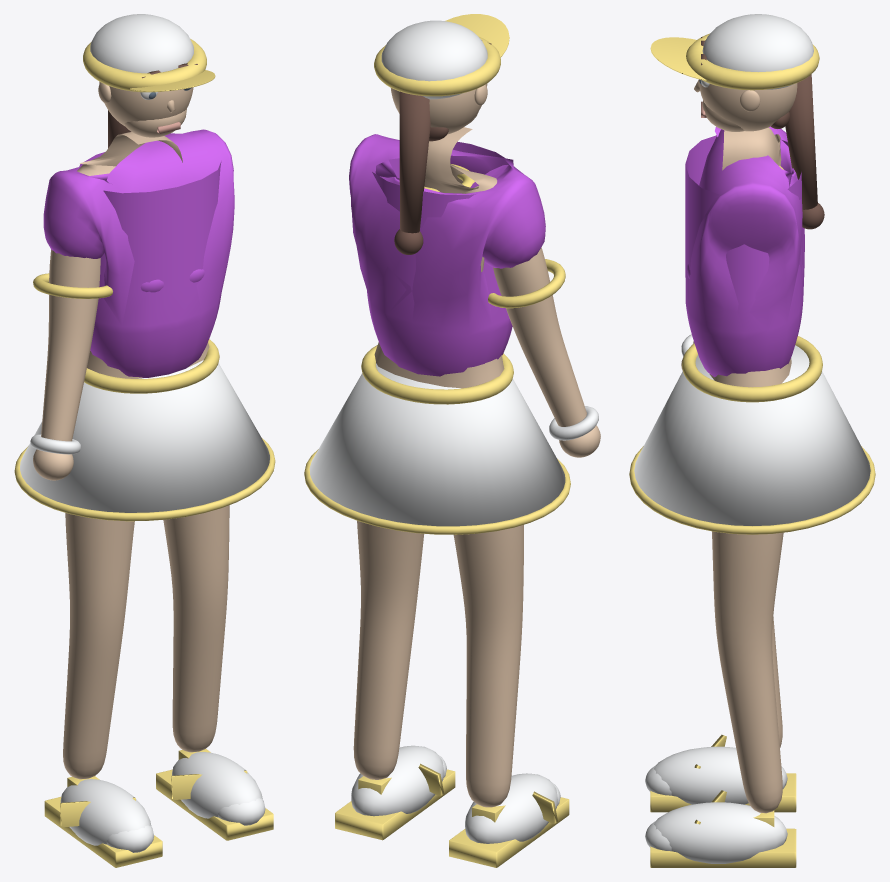
File: aura-tennis-cpu.glb
The picture shows the model from 3 angles, left to right: view 1: azimuth 30°, elevation 25°; view 2: azimuth 150°, elevation 25°; view 3: azimuth 270°, elevation 25°; orthographic projection. The views are drawn at different scales.
Visible parts, largest first — view 1: Cpu_body, Cpu_shirtmesh, Cone, Sphere.012, Sphere.017, Sphere.015, Torus.003, Torus.004, Torus.002, Sphere.002, Cube.006, Cube.003 (+9 smaller); view 2: Cpu_body, Cpu_shirtmesh, Cone, Sphere.012, Cone.002, Sphere.017, Sphere.015, Torus.002, Torus.003, Torus.004, Cube.003, Cube.006 (+6 smaller); view 3: Cone, Cpu_shirtmesh, Cpu_body, Sphere.015, Sphere.012, Sphere.017, Torus.002, Cone.002, Sphere.002, Torus.004, Torus.003, Cube.003 (+2 smaller).
Part boxes in pixels (x1=…): Cpu_body: x1=41, y1=132, x2=229, y2=779; Cpu_shirtmesh: x1=43, y1=129, x2=234, y2=377; Cone: x1=20, y1=360, x2=269, y2=512; Sphere.012: x1=90, y1=14, x2=193, y2=73; Sphere.017: x1=60, y1=779, x2=151, y2=845; Sphere.015: x1=172, y1=752, x2=262, y2=818; Torus.003: x1=14, y1=437, x2=275, y2=521; Torus.004: x1=83, y1=38, x2=206, y2=92; Torus.002: x1=84, y1=339, x2=219, y2=393; Sphere.002: x1=99, y1=81, x2=193, y2=125; Cube.006: x1=44, y1=797, x2=162, y2=867; Cube.003: x1=156, y1=769, x2=273, y2=840; Cpu_body: x1=353, y1=127, x2=586, y2=807; Cpu_shirtmesh: x1=349, y1=134, x2=545, y2=376; Cone: x1=309, y1=363, x2=565, y2=526; Sphere.012: x1=381, y1=20, x2=487, y2=99; Cone.002: x1=399, y1=91, x2=430, y2=233; Sphere.017: x1=465, y1=773, x2=557, y2=843; Sphere.015: x1=351, y1=745, x2=444, y2=816; Torus.002: x1=361, y1=345, x2=513, y2=404; Torus.003: x1=304, y1=449, x2=570, y2=534; Torus.004: x1=374, y1=37, x2=500, y2=96; Cube.003: x1=335, y1=769, x2=455, y2=840; Cube.006: x1=449, y1=797, x2=569, y2=867; Cone: x1=634, y1=345, x2=870, y2=525; Cpu_shirtmesh: x1=685, y1=126, x2=804, y2=377; Cpu_body: x1=693, y1=127, x2=791, y2=813; Sphere.015: x1=654, y1=802, x2=787, y2=863; Sphere.012: x1=702, y1=14, x2=813, y2=89; Sphere.017: x1=654, y1=746, x2=787, y2=804; Torus.002: x1=682, y1=336, x2=822, y2=402; Cone.002: x1=785, y1=74, x2=817, y2=209; Sphere.002: x1=698, y1=79, x2=797, y2=131; Torus.004: x1=686, y1=33, x2=819, y2=90; Torus.003: x1=629, y1=446, x2=875, y2=534; Cube.003: x1=650, y1=828, x2=796, y2=867.
Size of the model in its own units: 0.6032 by 1.84 by 0.5058.
